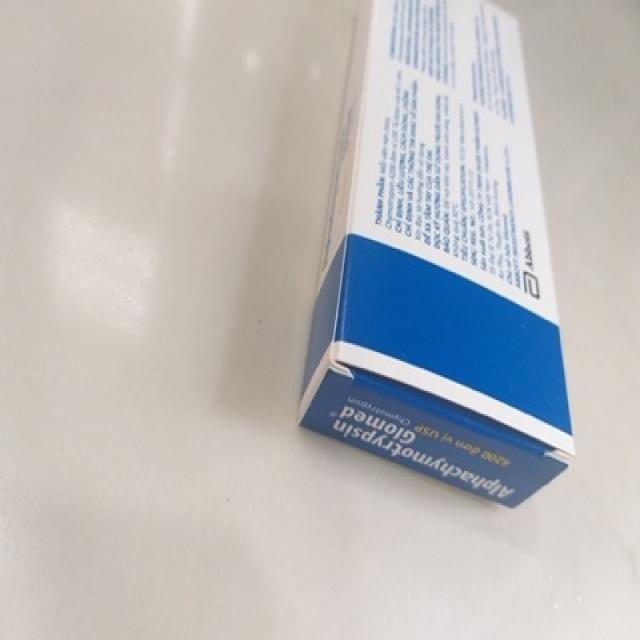PaperCardboard: (296, 0, 584, 530)
